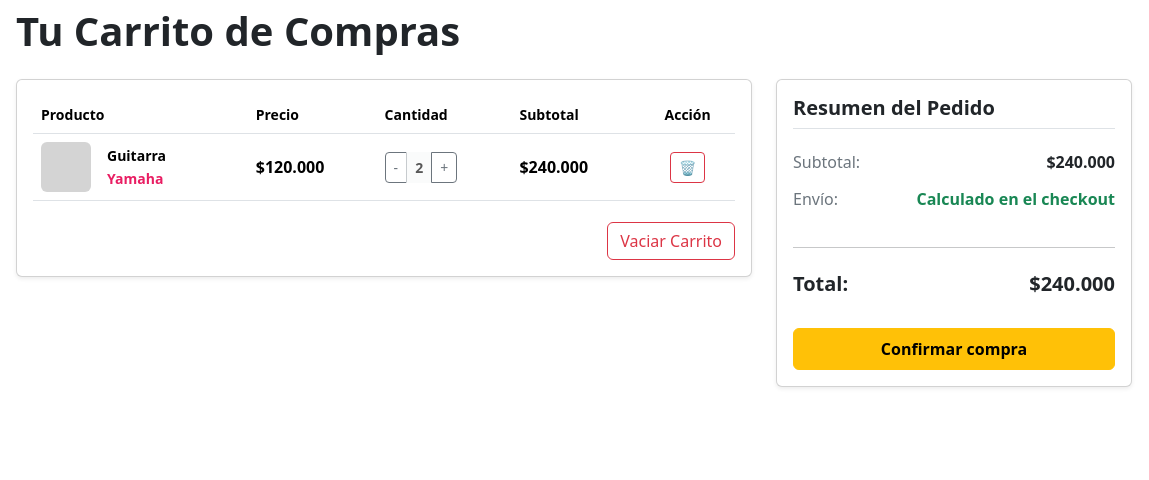
Test: compra desde el carrito › impide pagar con un rol que no sea cliente
Click the button "Confirmar compra".
click(954, 349)  # box [793,328,1115,370]
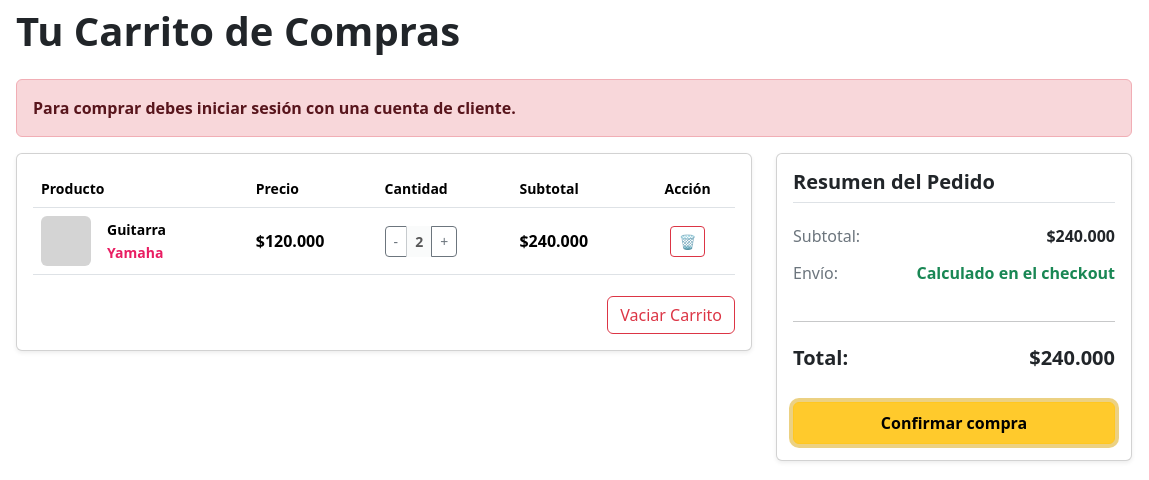
Expected: the message reads "Para comprar debes iniciar sesión con una cuenta de cliente.", [33,97,516,119]
